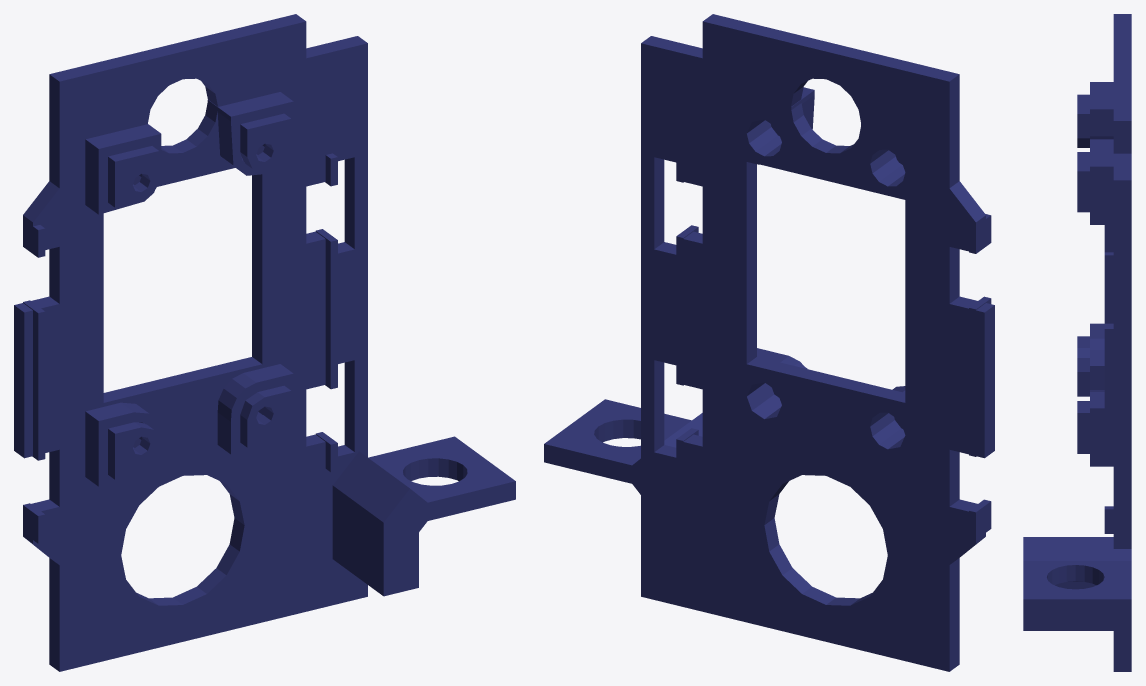
Rendered from tinker.obj.
The picture shows the model from 3 angles, left to right: view 1: azimuth 30°, elevation 25°; view 2: azimuth 150°, elevation 25°; view 3: azimuth 270°, elevation 25°; orthographic projection. The views are drawn at different scales.
Parts seen in each view (by area): view 1: obj_0; view 2: obj_0; view 3: obj_0.
Boxes of the visible parts, box(x1,y1,x2,y2) form: obj_0: box(14, 14, 515, 671); obj_0: box(544, 14, 994, 671); obj_0: box(1023, 14, 1131, 671).
Size of the model in its own units: 50 by 64 by 12.
